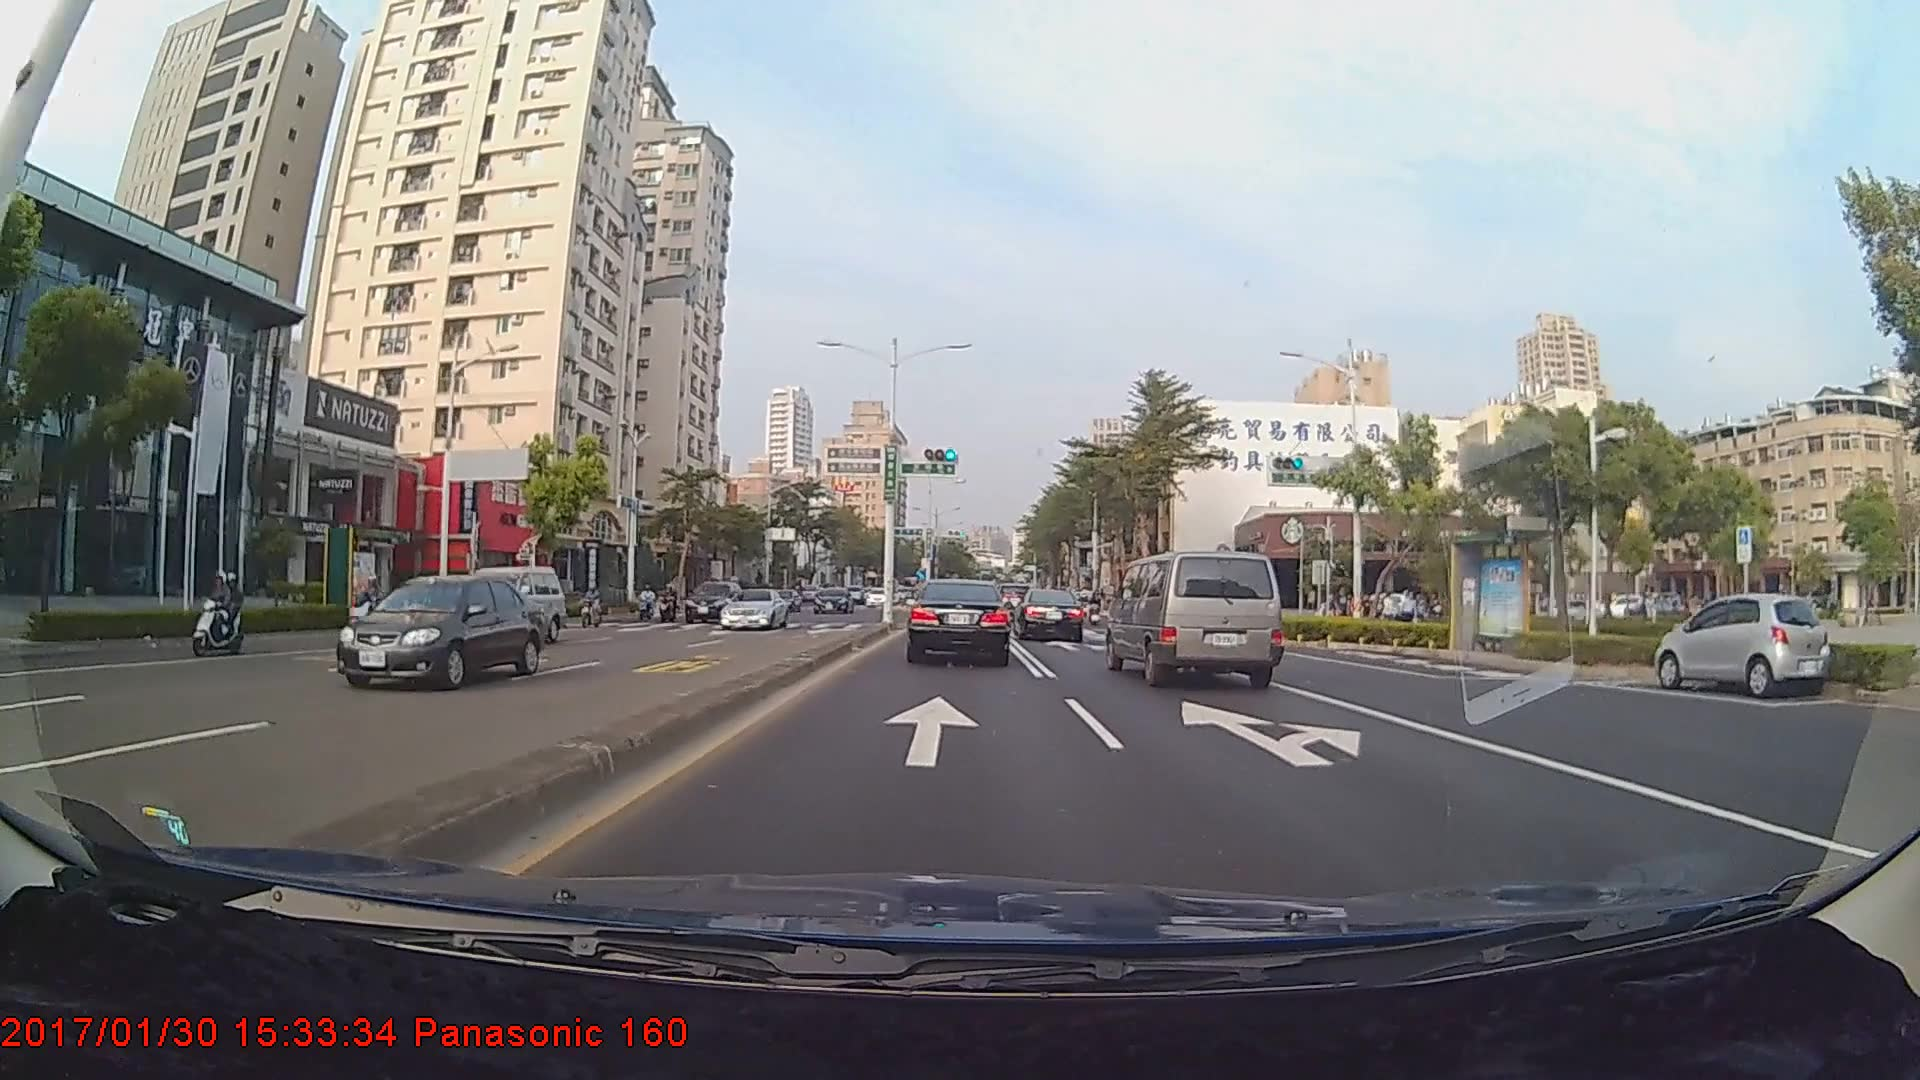rider: (187, 566, 250, 661), (344, 573, 382, 633), (577, 578, 611, 627), (655, 579, 682, 626), (631, 583, 659, 624)
vehicle: (1105, 545, 1285, 692), (331, 572, 548, 692), (1657, 591, 1830, 698), (429, 563, 564, 638), (908, 578, 1009, 666), (1012, 589, 1084, 641), (718, 584, 787, 629), (681, 579, 744, 623), (813, 584, 855, 616)
